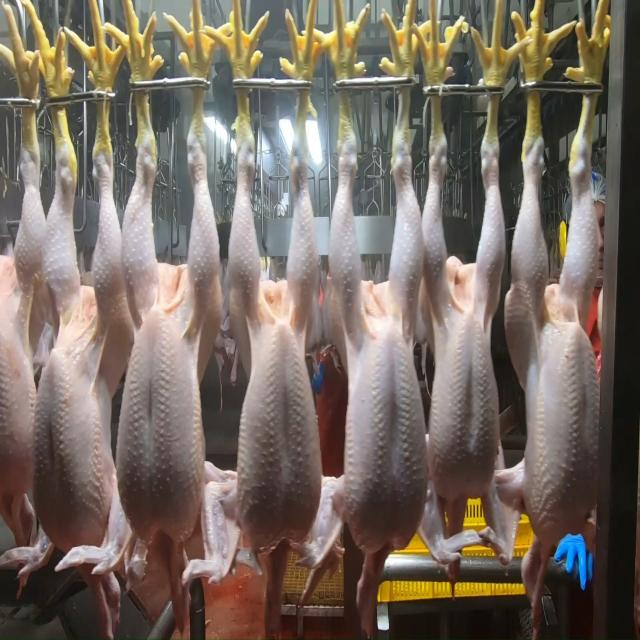chicken: (321, 165, 427, 558), (120, 166, 217, 556), (224, 162, 322, 546), (506, 171, 606, 529), (40, 175, 121, 556), (420, 168, 506, 511), (1, 162, 44, 504)
